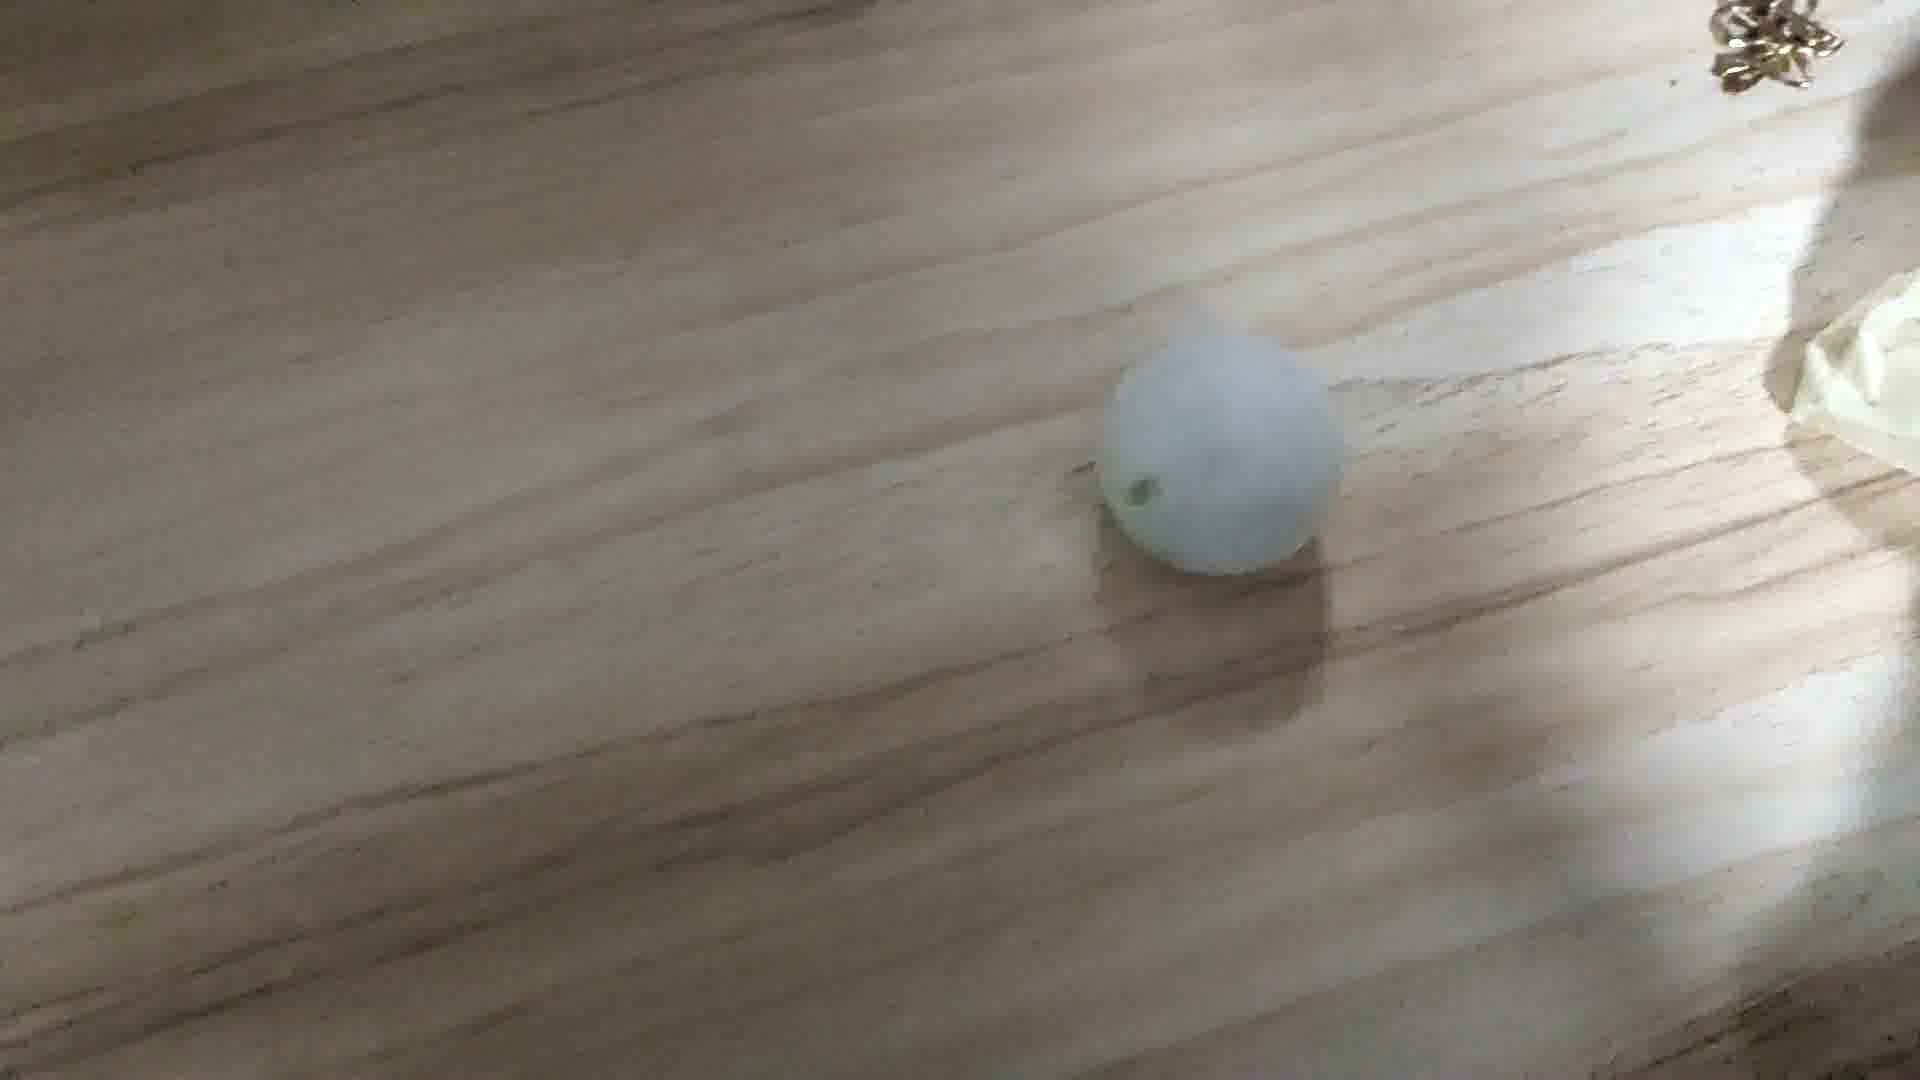Ball: (1096, 324, 1349, 582)
